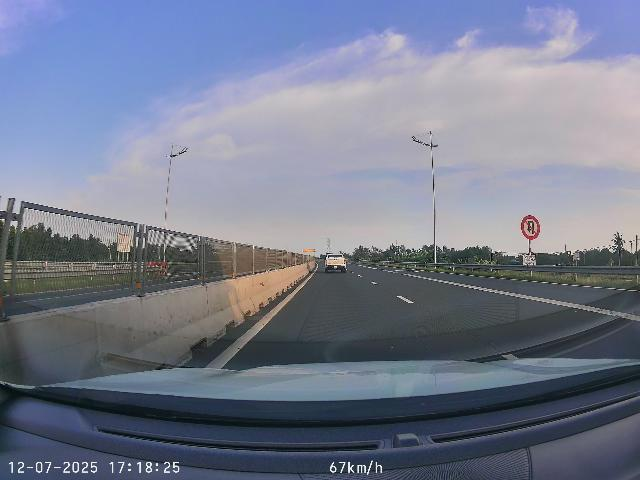124a-cam-quay-dau-xe: (521, 215, 540, 240)
